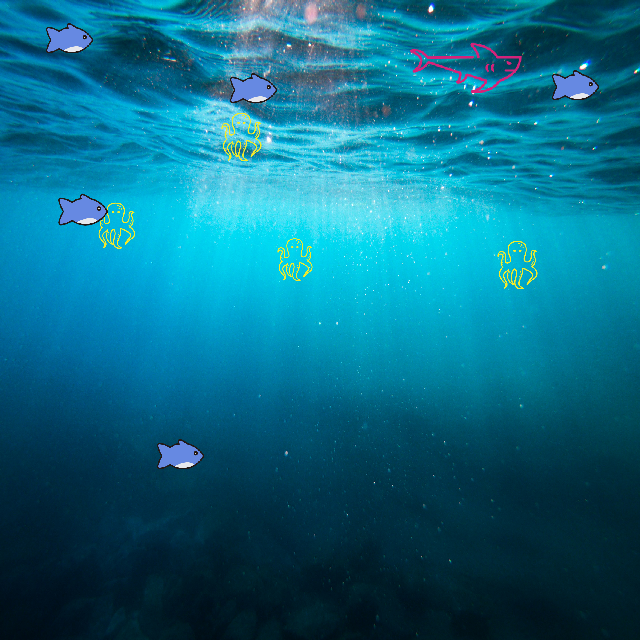target fish: (407, 40, 523, 96)
